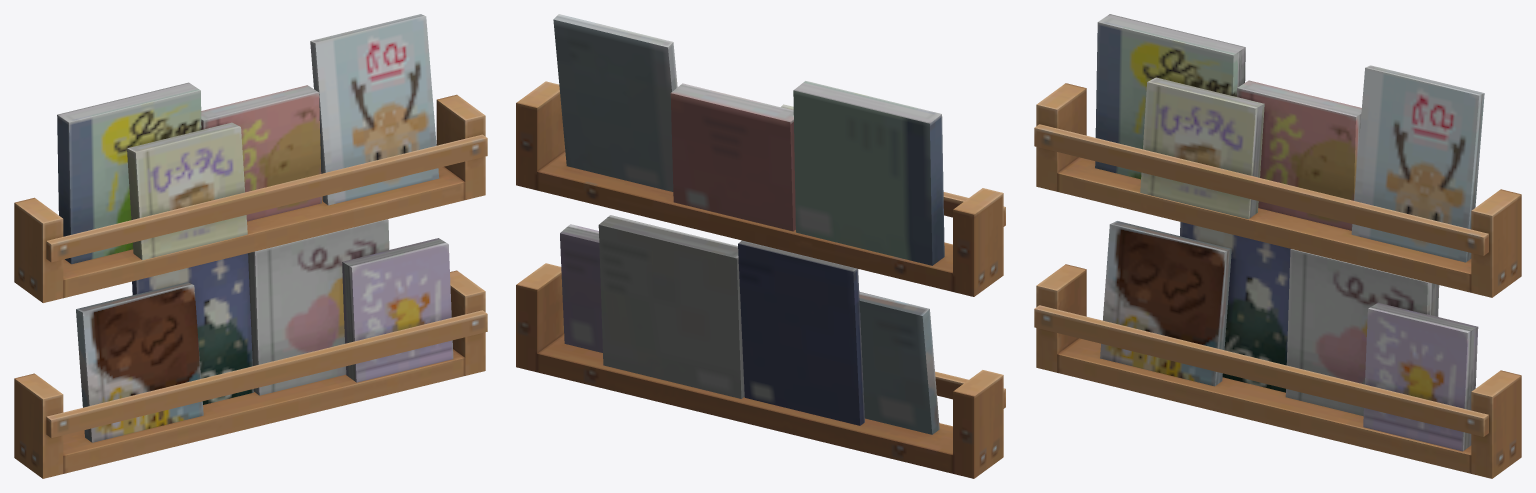
The model's file is estanteriaMiPrimeraBiblioteca.fbx.
The picture shows the model from 3 angles, left to right: view 1: azimuth 30°, elevation 25°; view 2: azimuth 150°, elevation 25°; view 3: azimuth 330°, elevation 25°; orthographic projection. The views are drawn at different scales.
Visible parts, largest first — view 1: s4studio_mesh_0; view 2: s4studio_mesh_0; view 3: s4studio_mesh_0.
Boxes of the visible parts, bbox=[...] form: s4studio_mesh_0: bbox=[14, 14, 487, 478]; s4studio_mesh_0: bbox=[516, 14, 1005, 478]; s4studio_mesh_0: bbox=[1034, 14, 1521, 478].
Bounding box in the file's own units: 63.03 × 47.12 × 8.34.
Materials: 1 (1 with a texture image).
